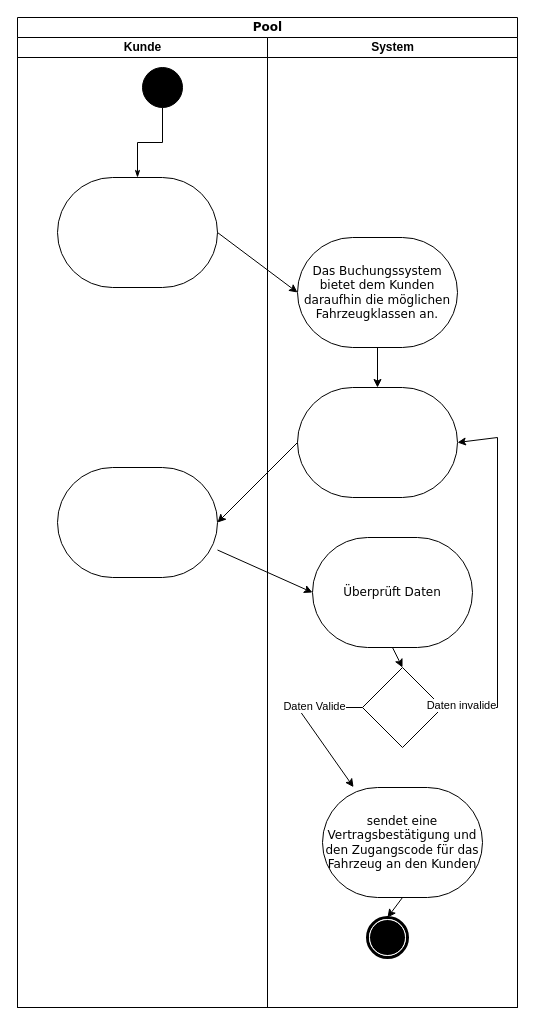
This 535x1025 diagram has some shape labels left out. Here are the shapes that lost their labels. From the top down, the centre of each, then its label:
(137,232): Der Kunde wählt die gewünschte Anmietstation und den Mietzeitraum aus.
(377,442): Das Buchungssystem fordert weitere Vertragsdaten an (Name, Adresse usw.).
(137,522): Der Kunde gibt die angeforderten Vertragsdaten an.
